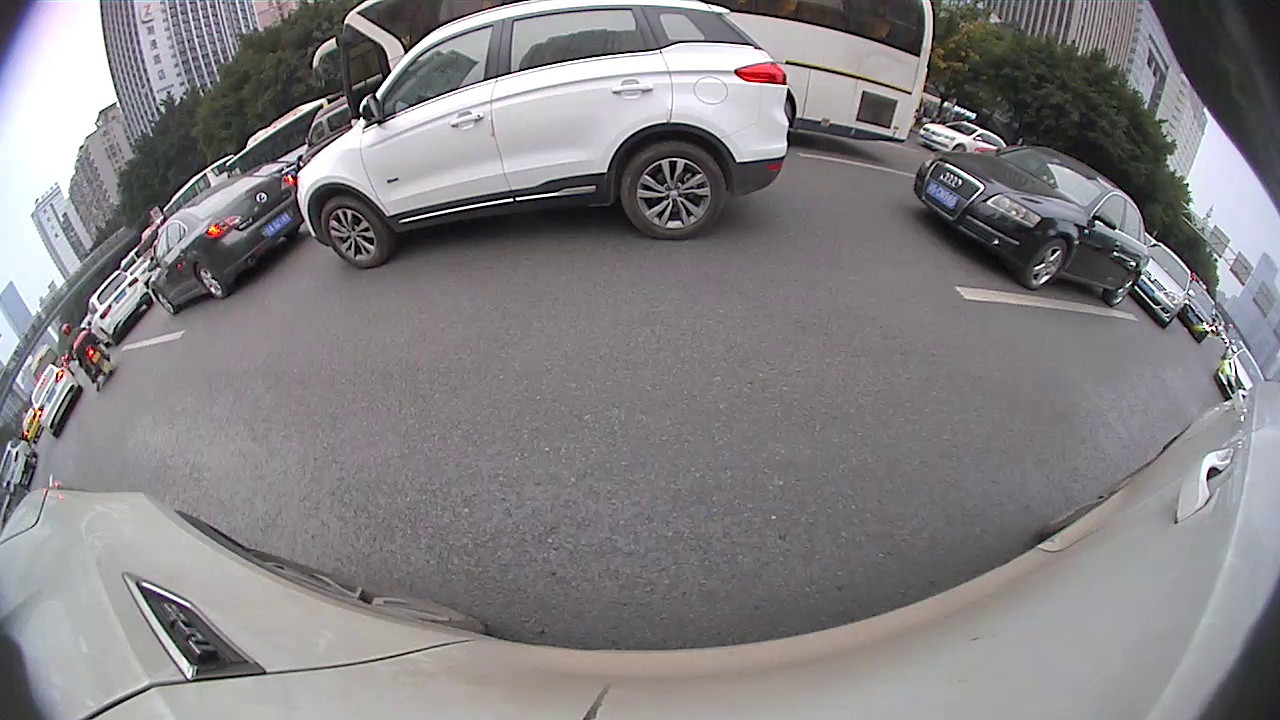bus: (225, 88, 336, 179), (157, 153, 235, 218)
car: (294, 1, 799, 271), (309, 1, 936, 143), (913, 146, 1150, 309), (147, 170, 302, 317), (1136, 240, 1193, 332), (82, 264, 152, 336), (915, 117, 1011, 166), (29, 365, 84, 440), (300, 98, 358, 166), (1215, 345, 1267, 414), (1177, 276, 1216, 348), (1, 437, 40, 488)
front: (322, 198, 387, 270), (1021, 243, 1071, 287), (152, 288, 174, 313)
rear: (622, 141, 725, 238), (1106, 275, 1138, 307), (197, 264, 225, 300)
rider: (59, 320, 114, 391)
